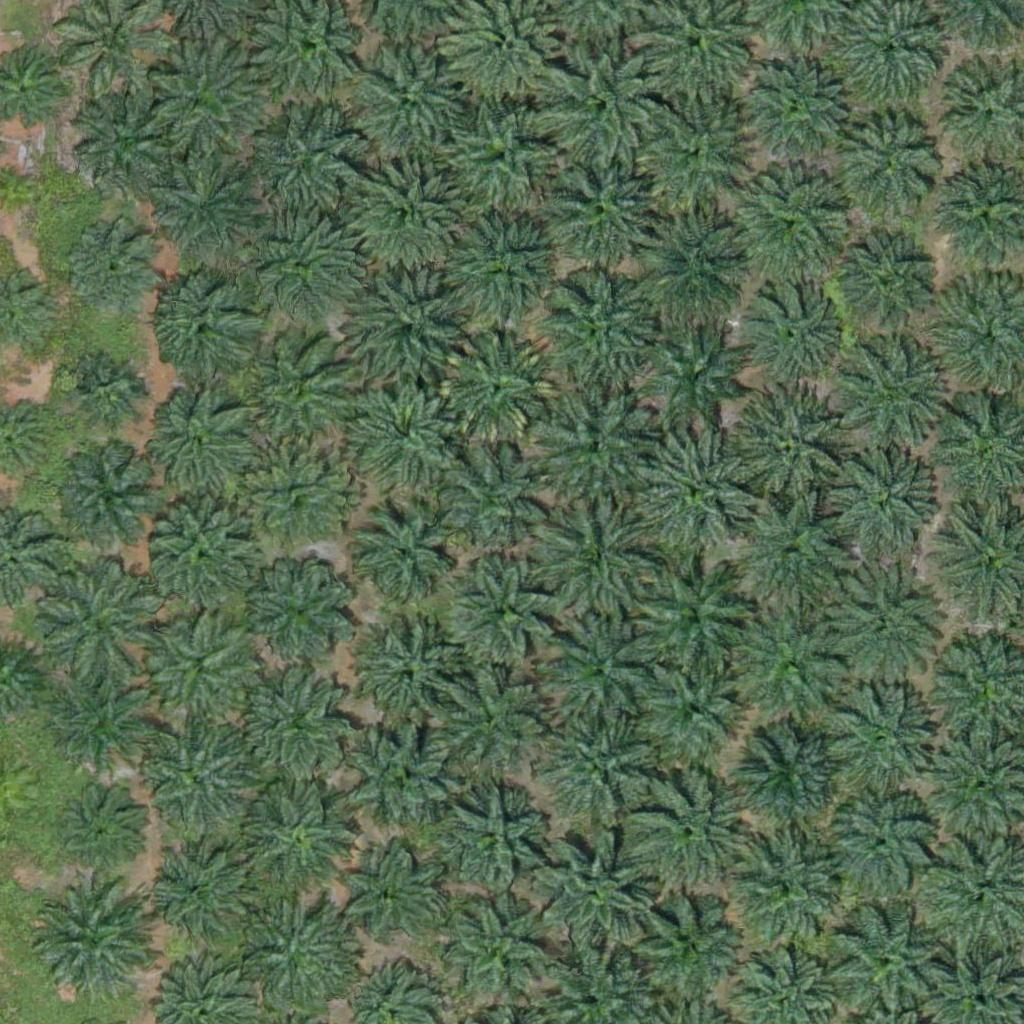Kelapa_Sawit: (735, 46, 860, 172), (723, 383, 848, 509), (731, 494, 856, 620), (627, 429, 752, 555), (631, 199, 756, 325), (627, 92, 752, 218), (539, 42, 664, 168), (535, 145, 660, 271), (535, 264, 660, 390), (533, 384, 658, 510), (523, 499, 648, 625), (144, 34, 269, 160), (33, 558, 158, 684), (26, 878, 151, 1004), (436, 892, 561, 1018), (539, 607, 664, 733), (537, 701, 662, 827), (532, 836, 657, 962), (629, 546, 754, 672), (633, 645, 758, 771), (629, 766, 754, 892), (619, 879, 744, 1005), (721, 601, 846, 727), (815, 683, 940, 809), (818, 560, 943, 686), (238, 893, 363, 1018), (447, 100, 560, 214), (447, 208, 560, 322), (733, 833, 846, 947), (830, 114, 943, 227), (242, 334, 355, 447), (236, 440, 349, 553), (148, 501, 261, 614), (138, 385, 251, 498), (148, 269, 261, 382), (153, 151, 266, 264), (246, 551, 359, 664), (354, 621, 467, 734), (241, 666, 354, 779), (241, 779, 354, 892), (339, 717, 452, 830), (736, 721, 849, 834), (350, 160, 462, 274), (354, 49, 466, 163), (433, 668, 545, 782), (822, 444, 934, 557), (838, 338, 950, 451), (735, 173, 847, 286), (441, 330, 553, 443), (440, 446, 552, 559), (347, 499, 459, 612), (347, 375, 459, 488), (354, 273, 466, 386), (246, 107, 358, 220), (245, 208, 357, 321), (73, 90, 185, 203), (448, 555, 560, 668), (146, 617, 258, 730), (47, 668, 159, 781), (142, 724, 254, 837), (435, 781, 547, 894), (826, 791, 938, 904), (838, 232, 938, 333), (743, 282, 843, 383), (66, 219, 166, 320), (58, 450, 158, 551), (150, 845, 250, 946), (338, 845, 438, 946), (645, 323, 745, 423), (59, 782, 146, 870), (70, 354, 145, 429), (4, 170, 42, 208)
